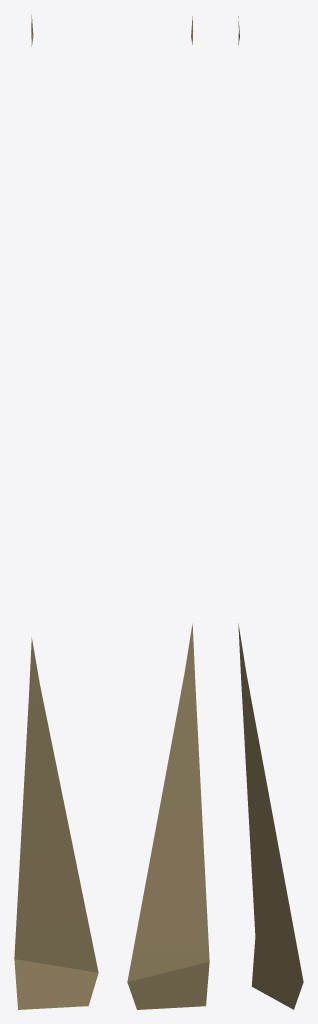
3 views of the same model, side by side, from view 1: azimuth 30°, elevation 25°; view 2: azimuth 210°, elevation 25°; view 3: azimuth 330°, elevation 25° (orthographic). The views are drawn at different scales.
Bounding box in the file's own units: 0.00964 × 0.1386 × 0.00435.
1 material, 1 textured.
